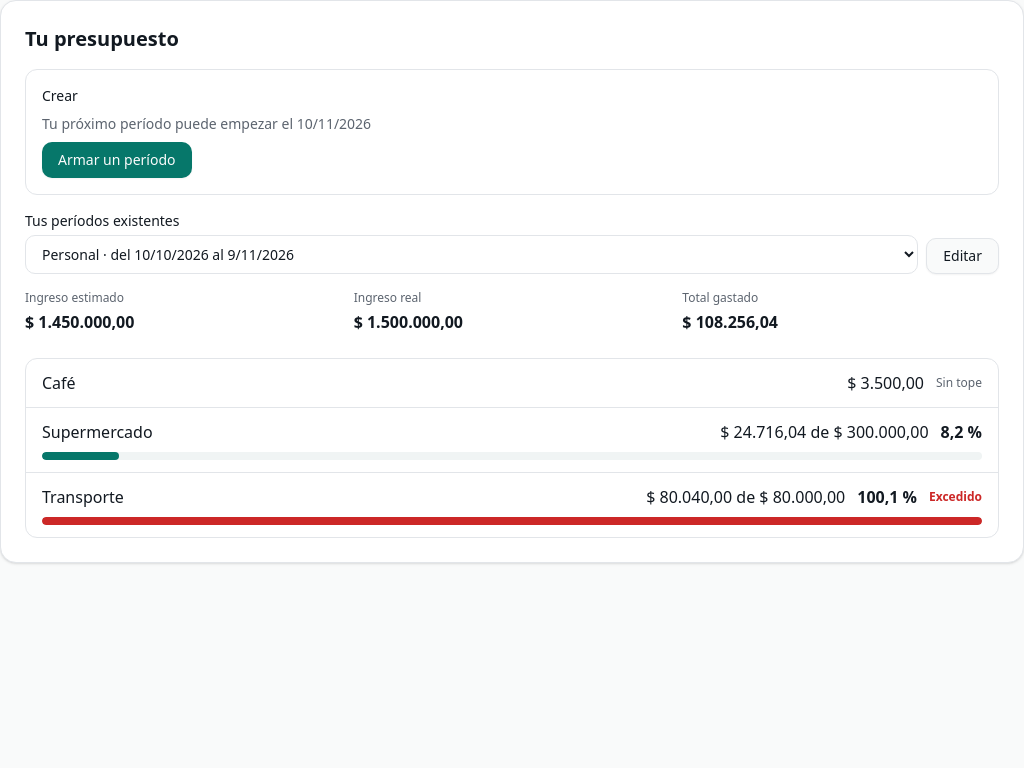
Test case: case C1-35: an expense in dollars shows its exchange rate
The image size is (1024, 768).
Click the button "Supermercado" at (97, 432), box 42,420 -> 153,444
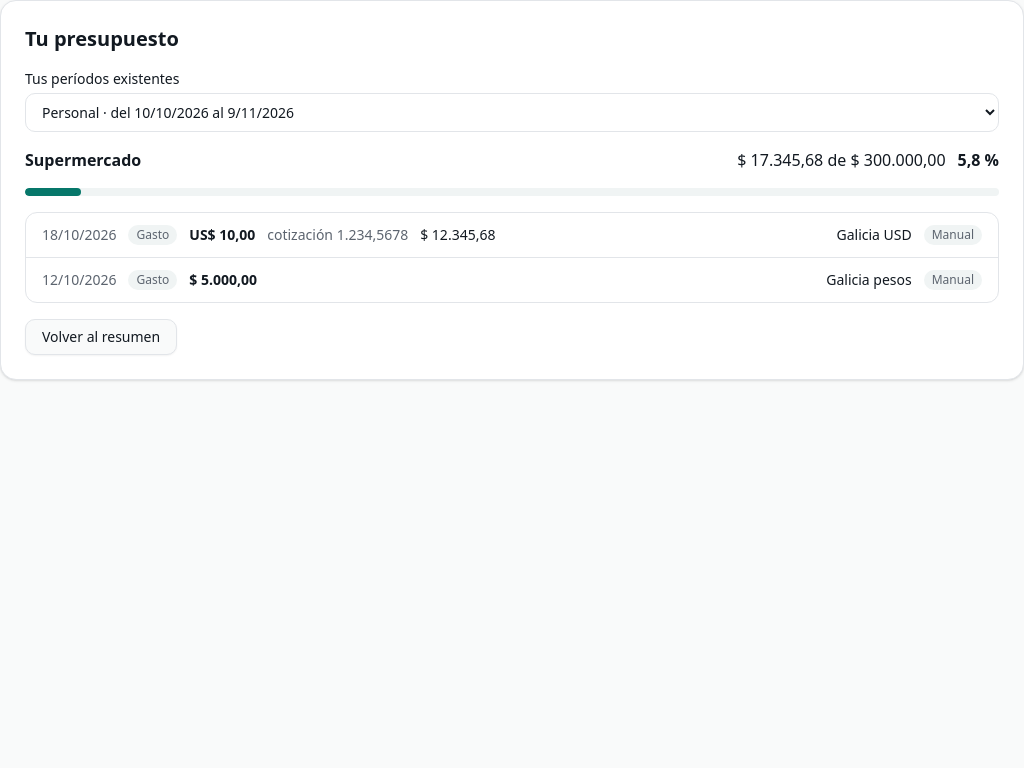
Now the element "Supermercado" is shown, box 25,148 -> 999,355
Now the text with class "budget-movement__amount" reads "US$ 10,00", box 189,225 -> 255,244
Now the text with class "budget-movement__exchange-rate" reads "cotización 1.234,5678", box 267,225 -> 408,244
